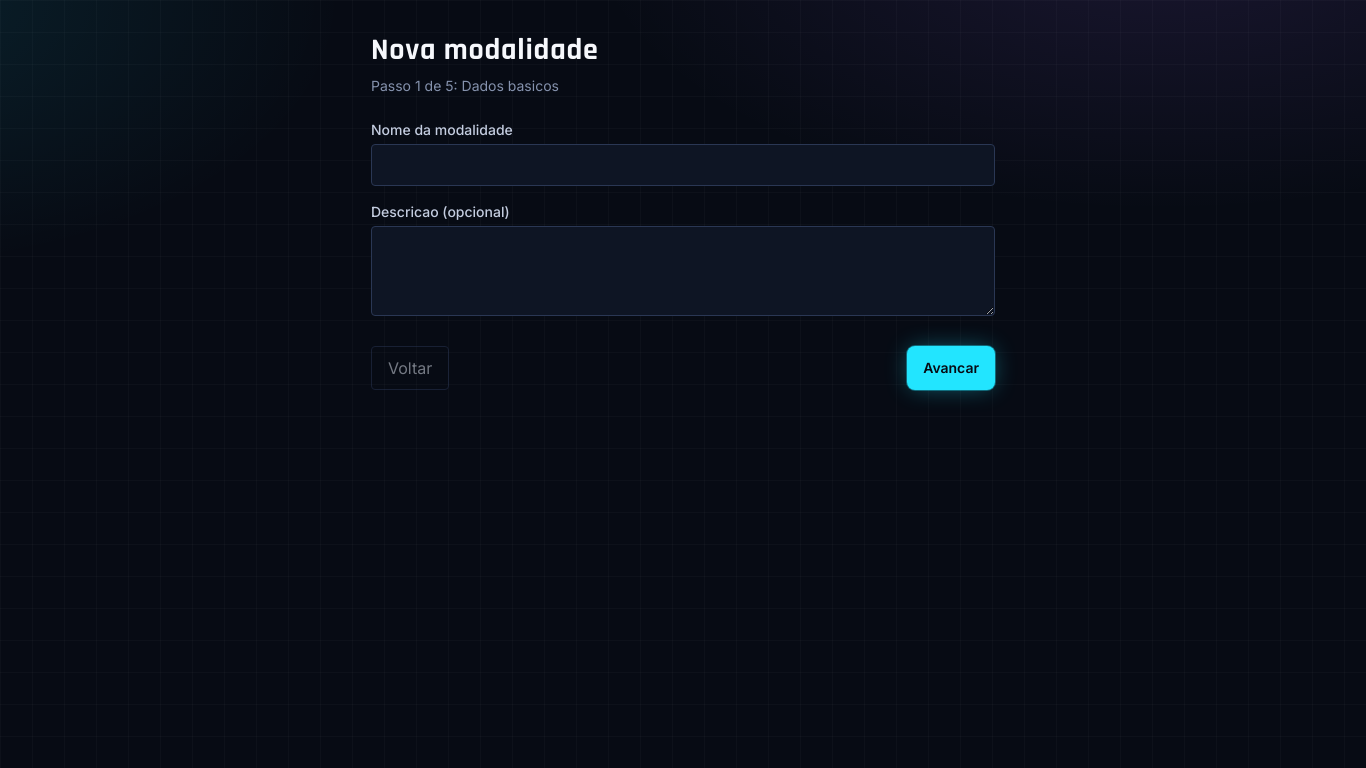
it: ModalidadeWizardPage - criacao › nao avanca de passo se o nome estiver vazio
Click the button "Avancar" at (951, 368), box top-left (907, 346), bottom-right (995, 390)
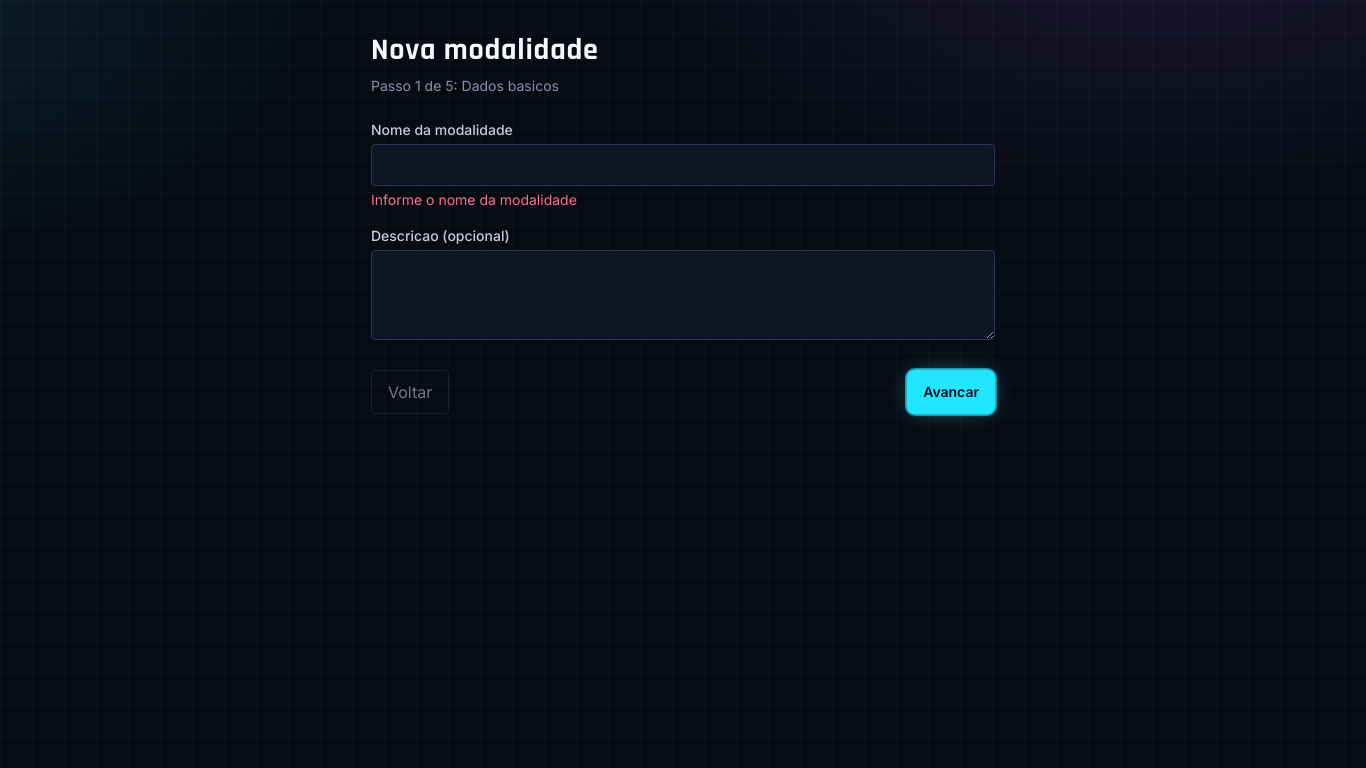
Expected: the text "Passo 1 de 5: Dados basicos" is shown, top-left (371, 77), bottom-right (559, 94)
Now the text "Informe o nome da modalidade" is shown, box top-left (371, 191), bottom-right (577, 208)
